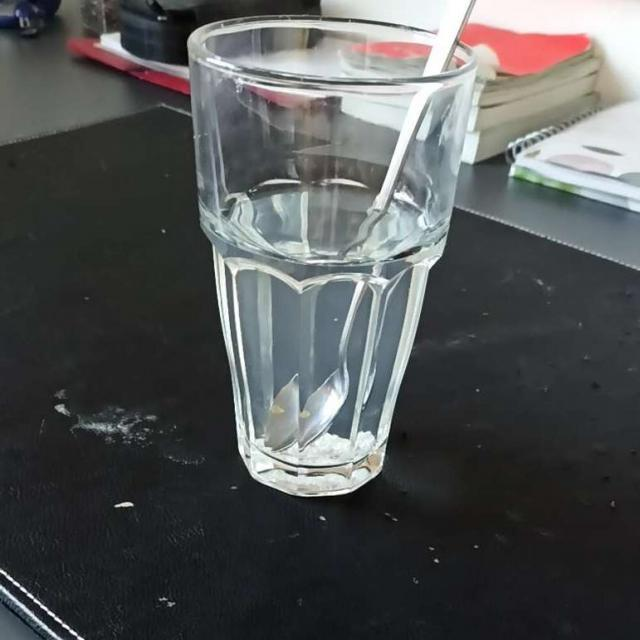water: (236, 169, 430, 464)
